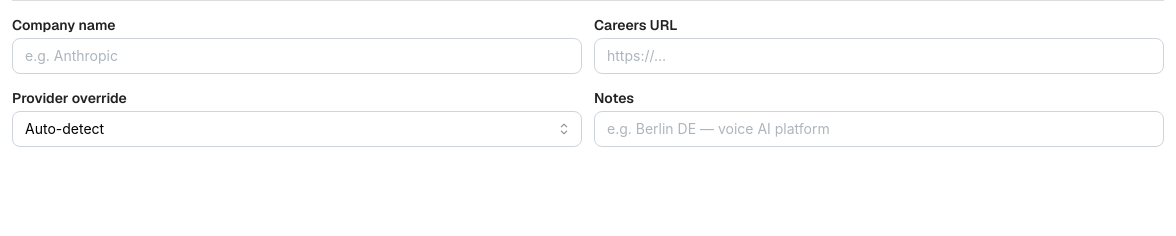
Test case: AddPortalForm — new optional fields › API endpoint field disappears when switching away from Greenhouse
Select "Greenhouse" in the dropdown labelled "Provider override": (297, 129) [12,111,582,147]
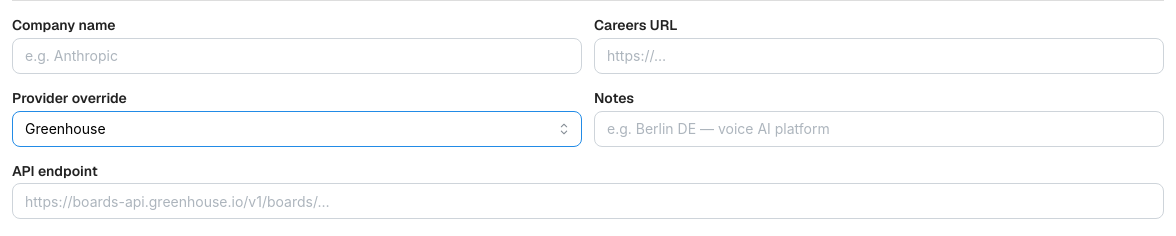
Select "Ashby" in the dropdown labelled "Provider override": (297, 129) [12,111,582,147]
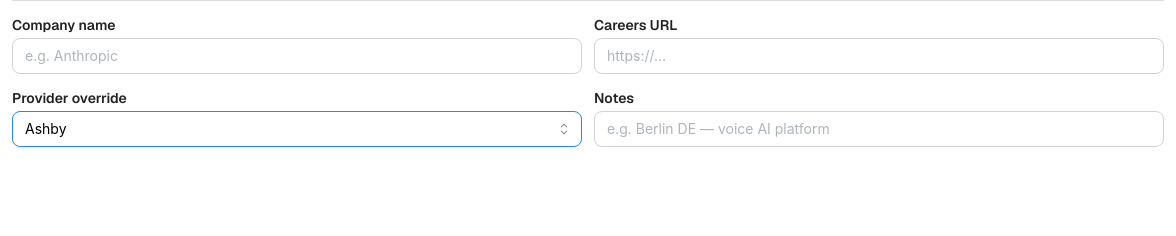
Expected: the label labelled "API endpoint" is gone
